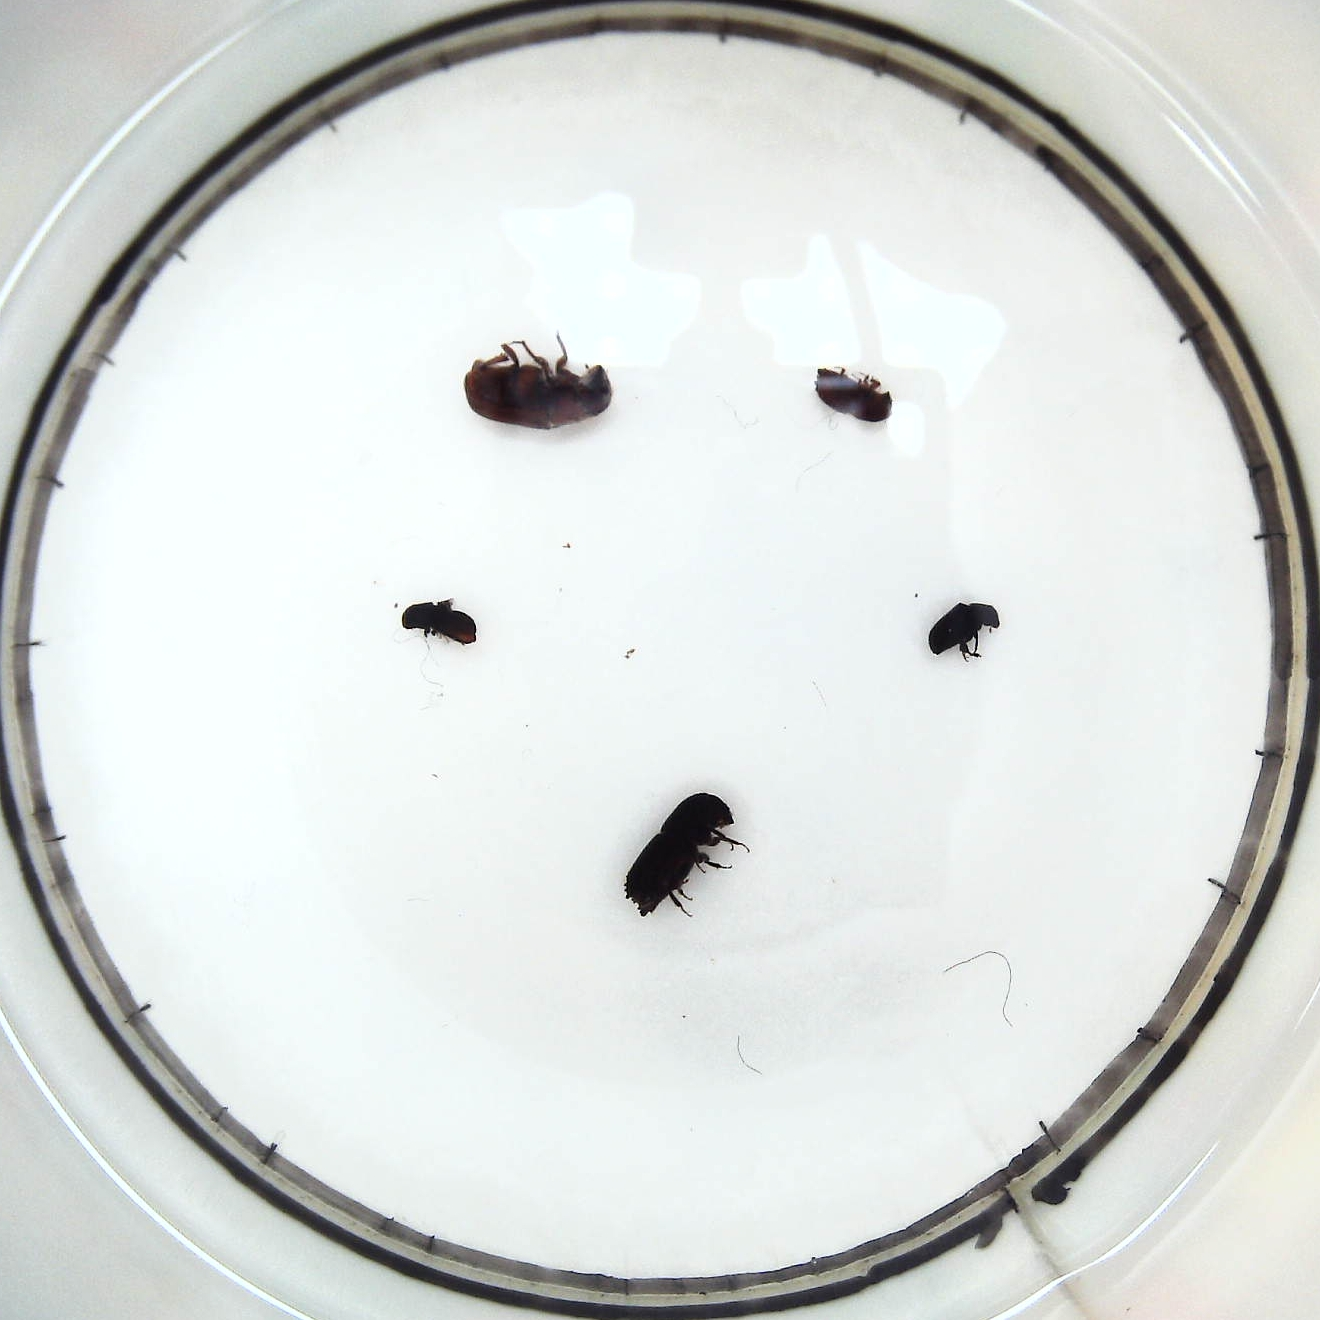Boerner: (619, 785, 755, 926)
Leconte: (465, 338, 619, 434)
armandi: (396, 597, 477, 648)
coleoptera: (930, 600, 1007, 662)
linnaeus: (807, 360, 897, 429)
